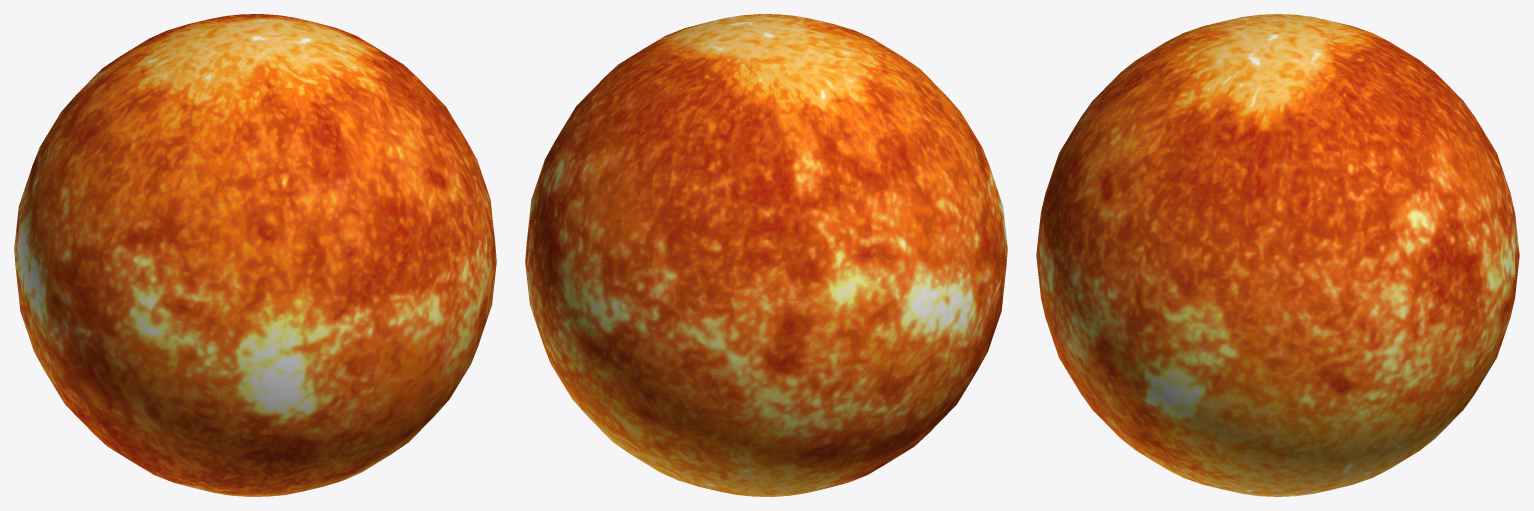
File: matahari.glb
3 views of the same model, side by side, from view 1: azimuth 30°, elevation 25°; view 2: azimuth 150°, elevation 25°; view 3: azimuth 270°, elevation 25° (orthographic).
Visible parts, largest first — view 1: Sphere; view 2: Sphere; view 3: Sphere.
Boxes of the visible parts, x1,y1,x2,y2 form: Sphere: [14, 14, 496, 496]; Sphere: [525, 14, 1007, 496]; Sphere: [1036, 14, 1519, 496].
Size of the model in its own units: 19.51 by 19.51 by 19.51.
1 material, 1 textured.
